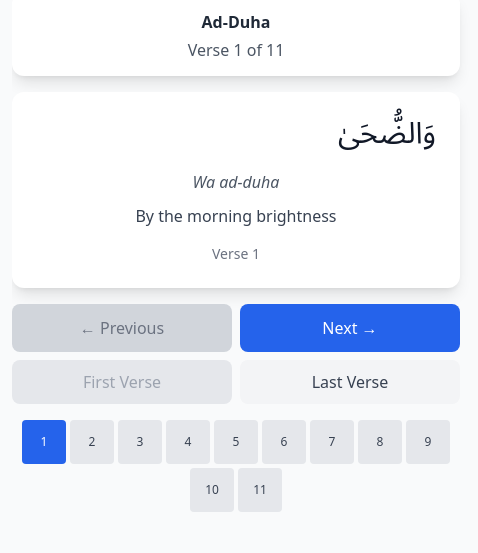
it: Reading Mode Integration › should handle rapid navigation
// Rapidly click next multiple times
Click the button "Next →": (350, 328) [240,304,460,352]
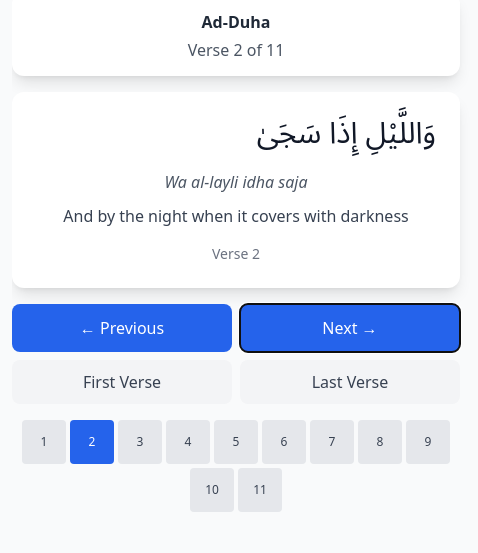
Click the button "Next →": (350, 328) [240,304,460,352]
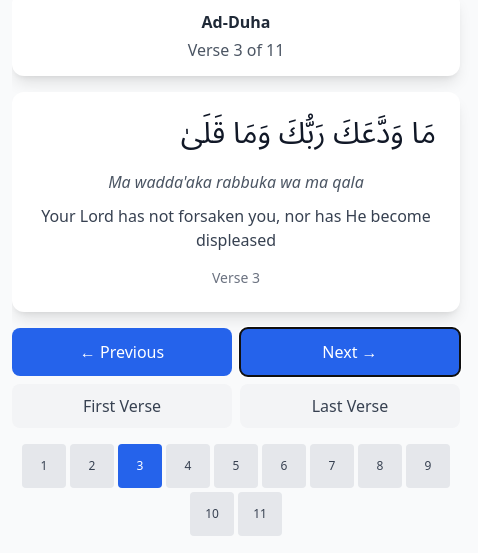
Click the button "Next →": (350, 352) [240,328,460,376]
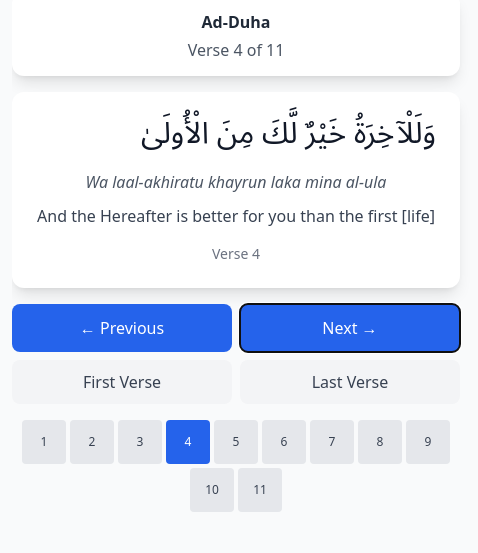
Expected: the text "Verse 4 of 11" is shown, [188,39,284,61]
